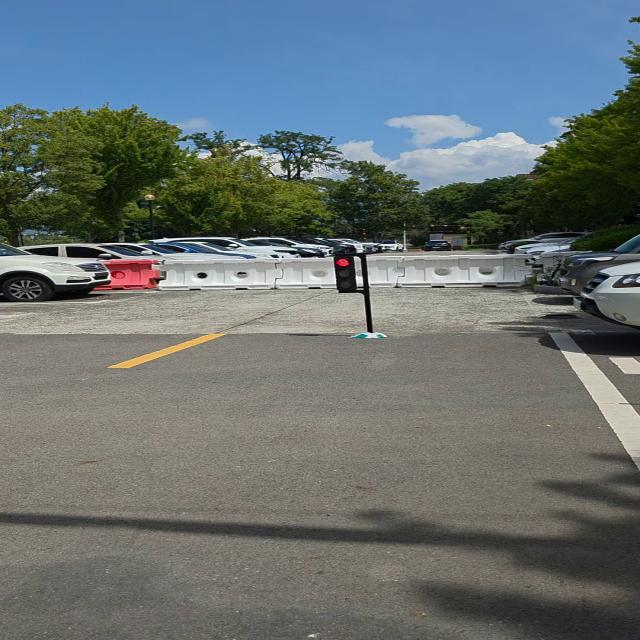red: (332, 254, 363, 294)
